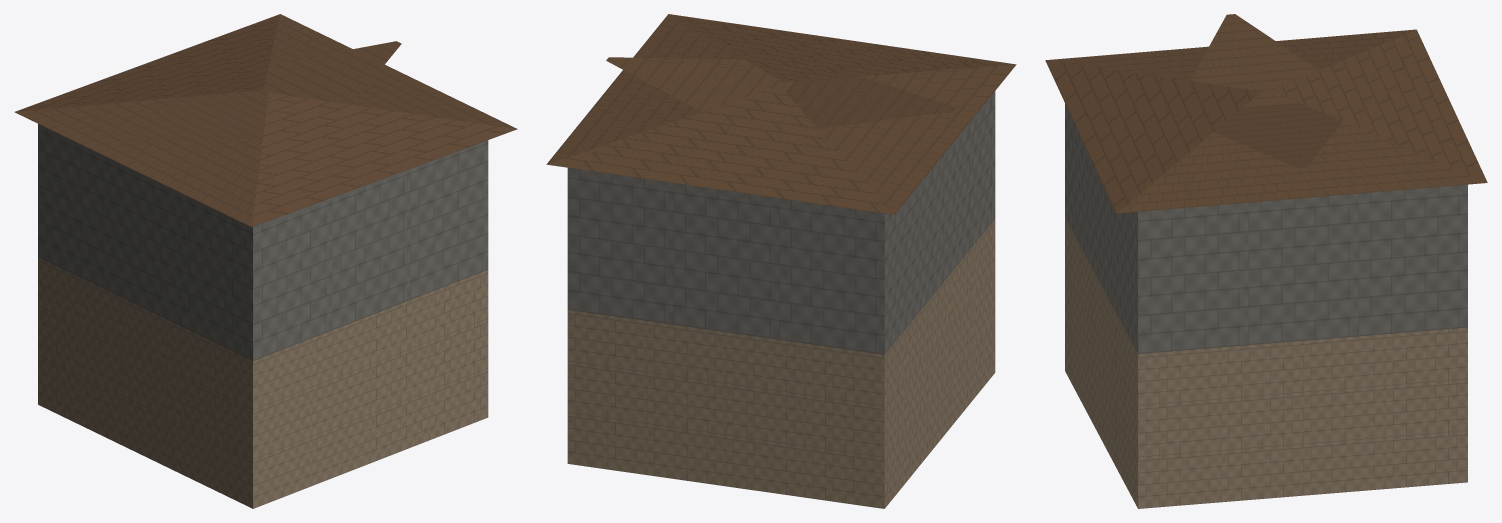
Rendered from bld_c43_34_255.gltf.
3 renders of one model, left to right at view 1: azimuth 30°, elevation 25°; view 2: azimuth 150°, elevation 25°; view 3: azimuth 270°, elevation 25°, orthographic. The views are drawn at different scales.
Parts seen in each view (by area): view 1: bld_c43_34_255; view 2: bld_c43_34_255; view 3: bld_c43_34_255.
Part boxes in pixels (x1,y1,x2,y2): bld_c43_34_255: (14,14,517,508); bld_c43_34_255: (546,14,1016,508); bld_c43_34_255: (1045,14,1487,508).
Bounding box in the file's own units: 12.94 × 11 × 13.15.
3 materials, 3 textured.
